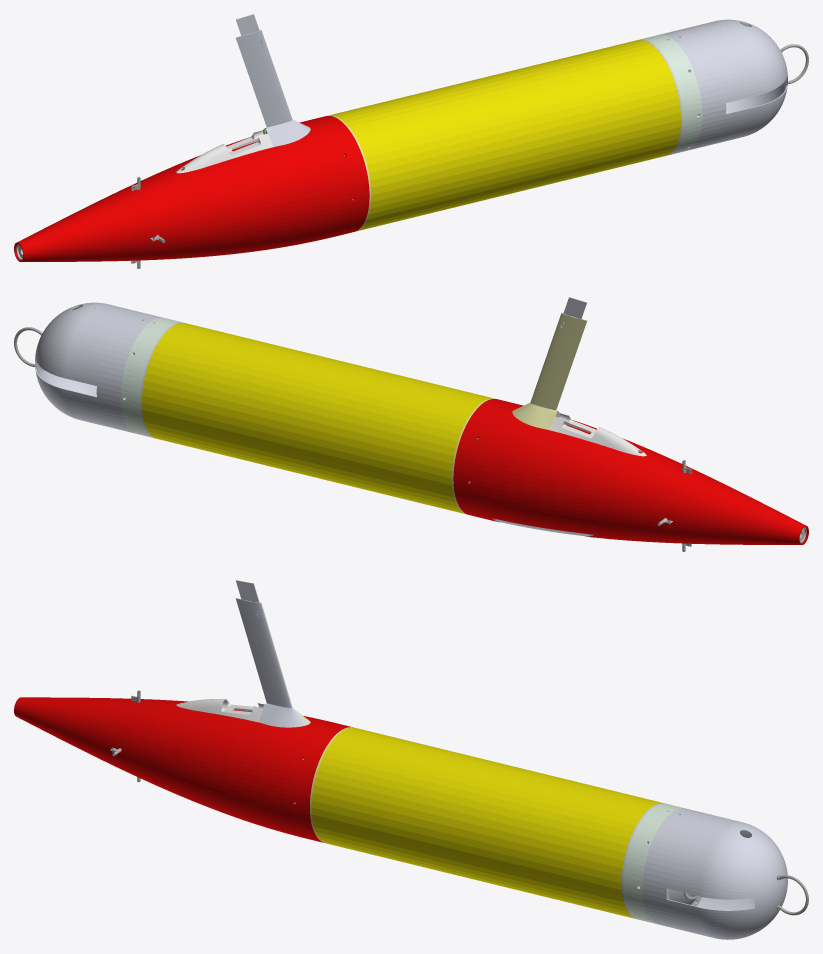
File: newbase.dae
3 renders of one model, top to bottom at view 1: azimuth 30°, elevation 25°; view 2: azimuth 150°, elevation 25°; view 3: azimuth 330°, elevation 25°, orthographic.
Visible parts, largest first — view 1: Shape_IndexedFaceSet_044, Shape_IndexedFaceSet_029, Shape_IndexedFaceSet_049, Shape_IndexedFaceSet_030, Shape_IndexedFaceSet_048, Shape_IndexedFaceSet_028, Shape_IndexedFaceSet_043; view 2: Shape_IndexedFaceSet_044, Shape_IndexedFaceSet_029, Shape_IndexedFaceSet_049, Shape_IndexedFaceSet_031, Shape_IndexedFaceSet_048, Shape_IndexedFaceSet_028, Shape_IndexedFaceSet_043; view 3: Shape_IndexedFaceSet_044, Shape_IndexedFaceSet_029, Shape_IndexedFaceSet_049, Shape_IndexedFaceSet_030, Shape_IndexedFaceSet_028, Shape_IndexedFaceSet_048, Shape_IndexedFaceSet_043, Shape_IndexedFaceSet_046.
Boxes of the visible parts, x1,y1,x2,y2 form: Shape_IndexedFaceSet_044: [330, 40, 681, 231]; Shape_IndexedFaceSet_029: [14, 120, 349, 261]; Shape_IndexedFaceSet_049: [660, 19, 787, 150]; Shape_IndexedFaceSet_030: [236, 30, 310, 146]; Shape_IndexedFaceSet_048: [641, 34, 702, 154]; Shape_IndexedFaceSet_028: [308, 116, 369, 236]; Shape_IndexedFaceSet_043: [176, 130, 272, 173]; Shape_IndexedFaceSet_044: [141, 323, 492, 514]; Shape_IndexedFaceSet_029: [473, 403, 808, 544]; Shape_IndexedFaceSet_049: [35, 302, 163, 433]; Shape_IndexedFaceSet_031: [512, 313, 586, 430]; Shape_IndexedFaceSet_048: [120, 317, 181, 437]; Shape_IndexedFaceSet_028: [453, 399, 514, 519]; Shape_IndexedFaceSet_043: [550, 413, 646, 456]; Shape_IndexedFaceSet_044: [311, 727, 663, 918]; Shape_IndexedFaceSet_029: [14, 697, 331, 837]; Shape_IndexedFaceSet_049: [642, 808, 787, 939]; Shape_IndexedFaceSet_030: [235, 598, 308, 727]; Shape_IndexedFaceSet_028: [290, 722, 352, 842]; Shape_IndexedFaceSet_048: [623, 803, 683, 923]; Shape_IndexedFaceSet_043: [176, 699, 264, 722]; Shape_IndexedFaceSet_046: [621, 803, 701, 918].
Size of the model in its own units: 2.33 by 0.3048 by 0.6624.
